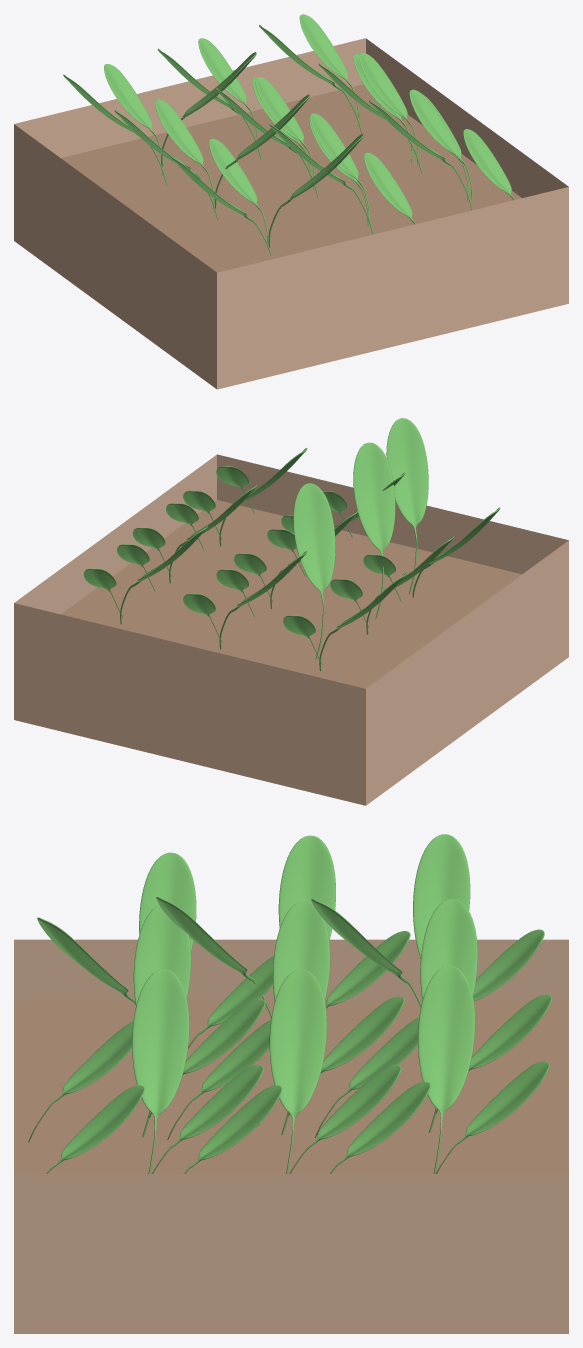
The model's file is plantbakfbx.fbx.
3 views of the same model, one above another, from view 1: azimuth 30°, elevation 25°; view 2: azimuth 150°, elevation 25°; view 3: azimuth 270°, elevation 25° (orthographic). The views are drawn at different scales.
Visible parts, largest first — view 1: Cube, Circle.025, Circle.024, Circle.006, Circle.030, Circle.001, Circle.007, Circle.022, Circle.021, Circle.019, Circle.018, Circle.010 (+13 smaller); view 2: Cube, Circle.009, Circle.004, Circle.003, Circle.011, Circle.008, Circle.029, Circle.007, Circle.030, Circle.010, Circle.018, Circle.028 (+10 smaller); view 3: Cube, Circle.023, Circle.029, Circle.026, Circle.008, Circle.017, Circle.011, Circle.005, Circle.020, Circle.002, Circle.030, Circle.025 (+16 smaller).
Boxes of the visible parts, bbox=[...] form: Cube: bbox=[14, 38, 568, 389]; Circle.025: bbox=[359, 53, 418, 165]; Circle.024: bbox=[409, 89, 468, 201]; Circle.006: bbox=[155, 99, 214, 211]; Circle.030: bbox=[299, 14, 359, 126]; Circle.001: bbox=[209, 138, 268, 248]; Circle.007: bbox=[104, 64, 163, 175]; Circle.022: bbox=[463, 129, 514, 199]; Circle.021: bbox=[364, 152, 415, 224]; Circle.019: bbox=[310, 113, 369, 225]; Circle.018: bbox=[255, 77, 314, 188]; Circle.010: bbox=[198, 38, 257, 150]; Cube: bbox=[14, 454, 568, 805]; Circle.009: bbox=[293, 483, 335, 659]; Circle.004: bbox=[353, 442, 395, 618]; Circle.003: bbox=[386, 418, 428, 594]; Circle.011: bbox=[219, 551, 307, 649]; Circle.008: bbox=[319, 572, 407, 670]; Circle.029: bbox=[120, 525, 207, 624]; Circle.007: bbox=[283, 615, 322, 664]; Circle.030: bbox=[83, 568, 122, 617]; Circle.010: bbox=[183, 593, 222, 642]; Circle.018: bbox=[234, 553, 273, 602]; Circle.028: bbox=[117, 544, 155, 591]; Cube: bbox=[14, 939, 568, 1333]; Circle.023: bbox=[132, 969, 189, 1173]; Circle.029: bbox=[418, 966, 475, 1173]; Circle.026: bbox=[269, 969, 326, 1173]; Circle.008: bbox=[413, 834, 470, 958]; Circle.017: bbox=[273, 901, 330, 1134]; Circle.011: bbox=[420, 899, 477, 1132]; Circle.005: bbox=[278, 835, 335, 940]; Circle.020: bbox=[133, 905, 190, 1137]; Circle.002: bbox=[139, 852, 196, 952]; Circle.030: bbox=[436, 1061, 549, 1173]; Circle.025: bbox=[289, 1064, 401, 1173].
Bounding box in the file's own units: 366 × 217 × 366.
